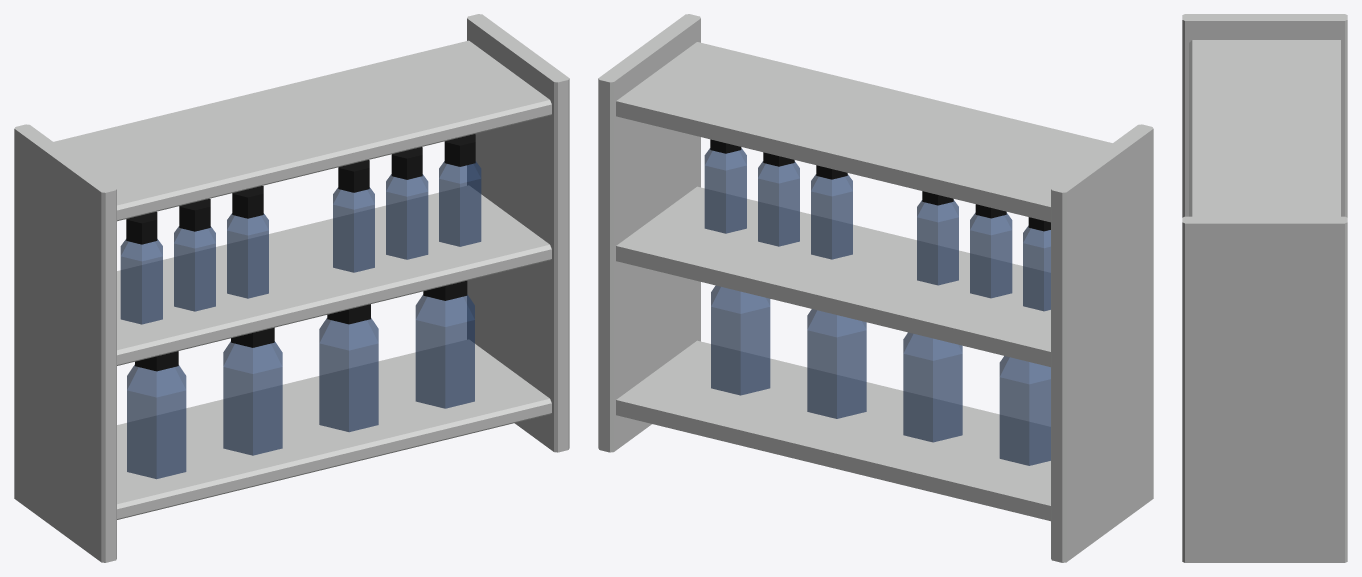
Rendered from reagent-bottle-shelf-8fd723.glb.
The picture shows the model from 3 angles, left to right: view 1: azimuth 30°, elevation 25°; view 2: azimuth 150°, elevation 25°; view 3: azimuth 270°, elevation 25°; orthographic projection. The views are drawn at different scales.
Visible parts, largest first — view 1: reagent-bottle-shelf, bottle-large, bottle-small; view 2: reagent-bottle-shelf, bottle-large, bottle-small; view 3: reagent-bottle-shelf.
Part boxes in pixels (<box>): reagent-bottle-shelf: <box>14,14,569,562</box>; bottle-large: <box>127,351,186,479</box>; bottle-small: <box>174,199,215,311</box>; reagent-bottle-shelf: <box>598,14,1153,562</box>; bottle-large: <box>999,356,1050,465</box>; bottle-small: <box>970,204,1012,298</box>; reagent-bottle-shelf: <box>1182,14,1347,562</box>.
Size of the model in its own units: 0.9 by 0.68 by 0.3.
